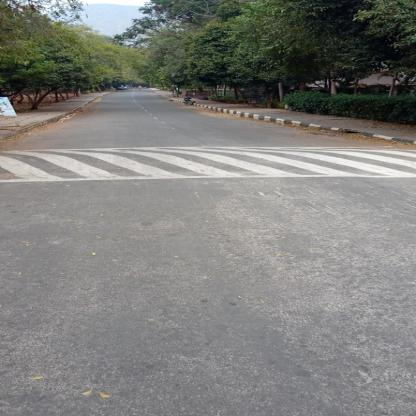speed-bumps: (0, 140, 415, 184)
